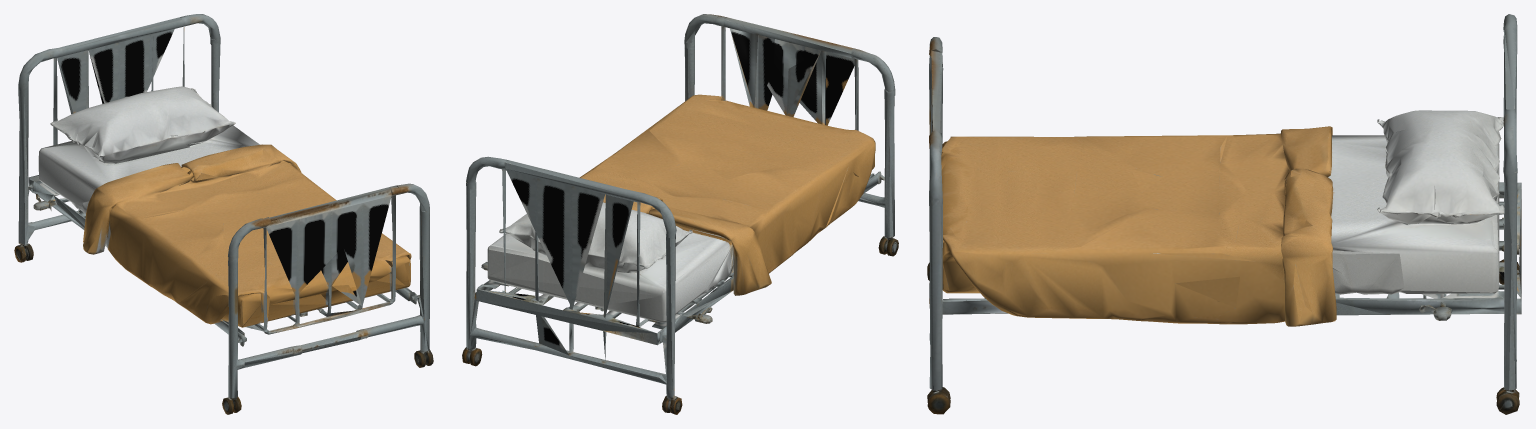
The model's file is HospitalBed.fbx.
The picture shows the model from 3 angles, left to right: view 1: azimuth 30°, elevation 25°; view 2: azimuth 150°, elevation 25°; view 3: azimuth 270°, elevation 25°; orthographic projection. The views are drawn at different scales.
Visible parts, largest first — view 1: output_unwrapped; view 2: output_unwrapped; view 3: output_unwrapped.
Part boxes in pixels (x1,y1,x2,y2): output_unwrapped: [14, 14, 433, 414]; output_unwrapped: [462, 14, 898, 414]; output_unwrapped: [927, 14, 1521, 414].
Size of the model in its own units: 114 by 98.66 by 190.
Materials: 1 (1 with a texture image).
